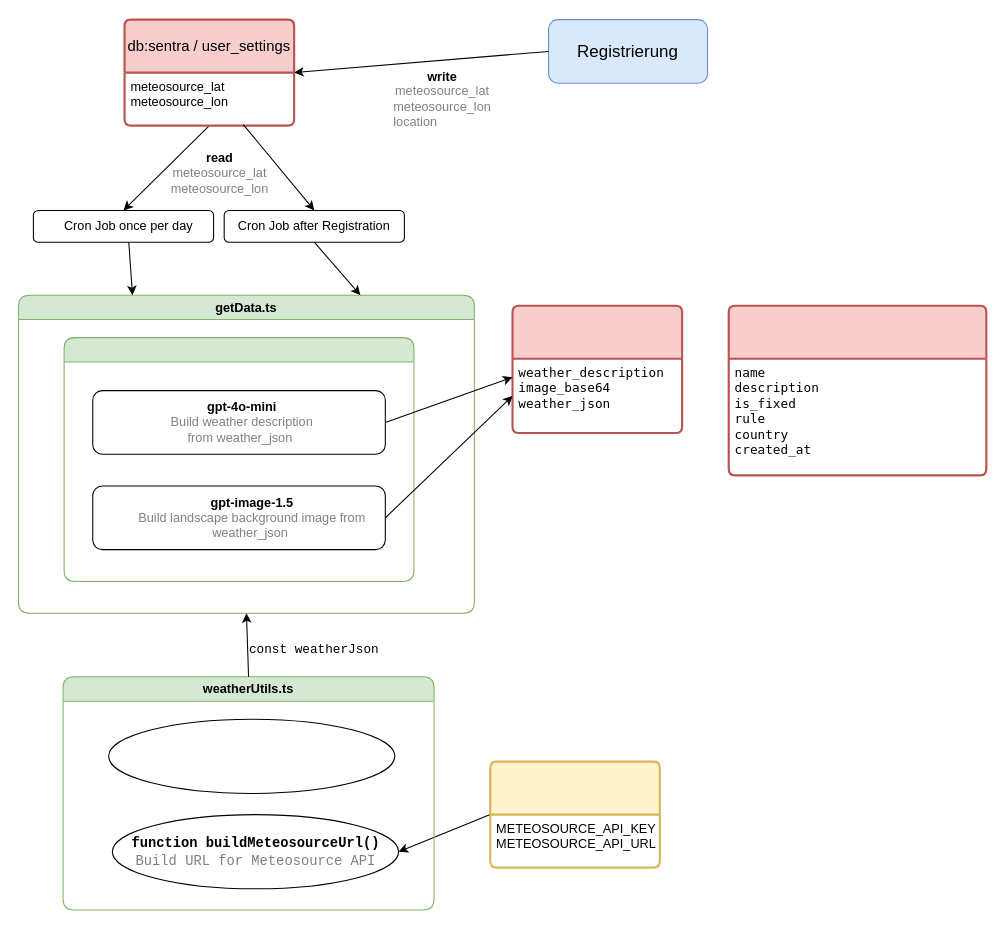
Image size: 1006x929. Some labels were removed from this diagram. The box of each missing label's shape, as (x1, y1, x2, y2) in pixels:
.env: (489, 760, 660, 868)
db:sentra / data: (511, 304, 683, 434)
db:sentra / day_meanings: (727, 304, 987, 476)
function fetchAndStoreWeather(): (63, 337, 414, 581)
function getUserCoordinates() Retrieving Coordinates from db: (108, 718, 395, 793)
